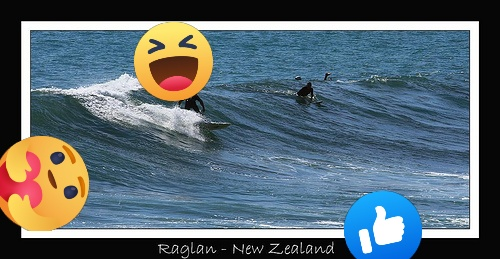care: (0, 136, 89, 231)
haha: (134, 22, 213, 101)
like: (344, 191, 422, 259)
